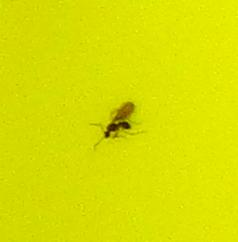Hymenoptera: (100, 100, 138, 142)
